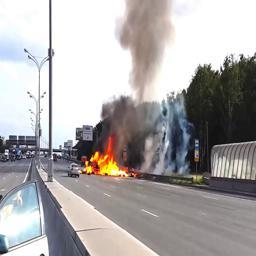fire: (84, 137, 129, 177)
